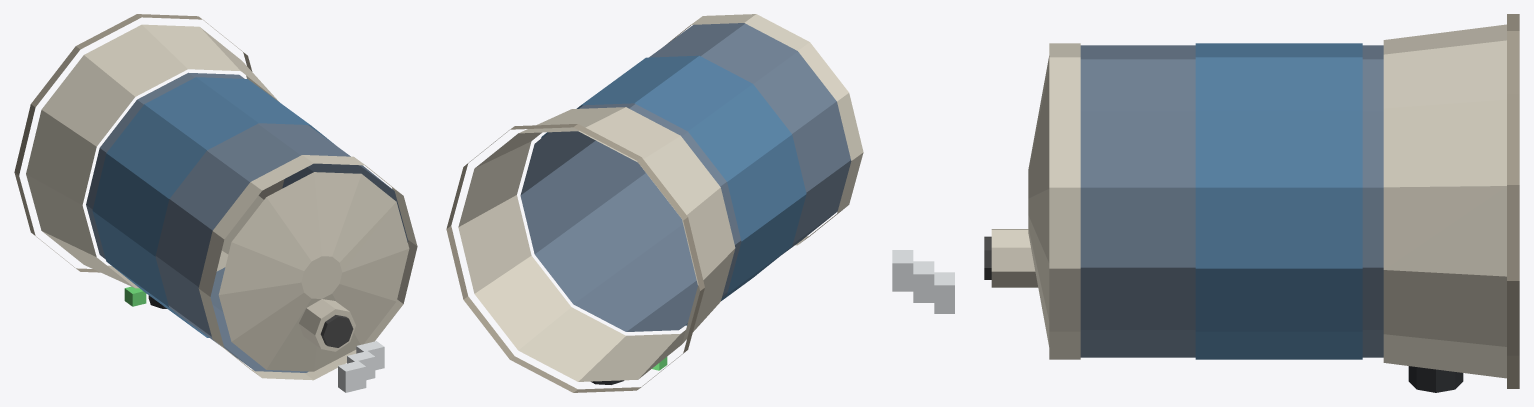
The model's file is a_humid.obj.
3 views of the same model, side by side, from view 1: azimuth 30°, elevation 25°; view 2: azimuth 150°, elevation 25°; view 3: azimuth 270°, elevation 25° (orthographic). The views are drawn at different scales.
Bounding box in the file's own units: 0.36 × 0.37 × 0.6.
1 material, 1 textured.
